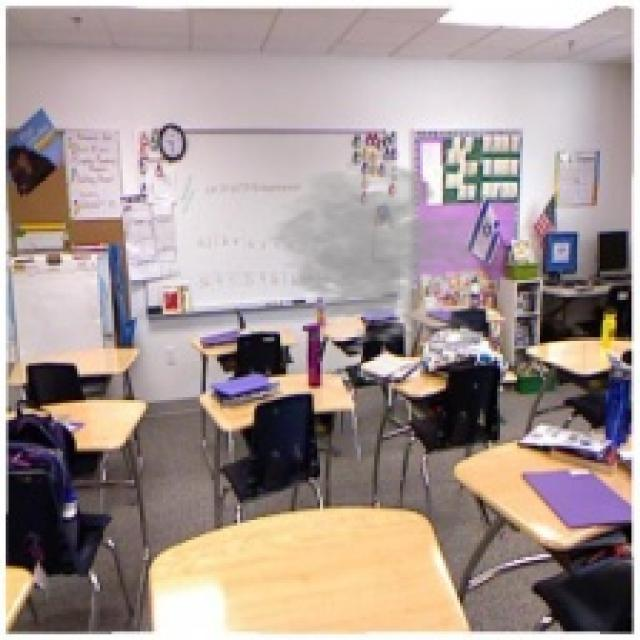Smoke: (260, 148, 526, 354)
